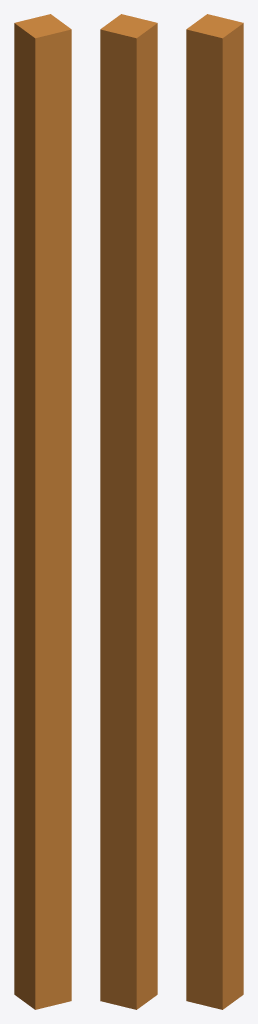
The picture shows the model from 3 angles, left to right: view 1: azimuth 30°, elevation 25°; view 2: azimuth 150°, elevation 25°; view 3: azimuth 330°, elevation 25°; orthographic projection.
Visible parts, largest first — view 1: CORNER-B-44-p2; view 2: CORNER-B-44-p2; view 3: CORNER-B-44-p2.
Boxes of the visible parts, x1=… form: CORNER-B-44-p2: x1=14, y1=14, x2=71, y2=1009; CORNER-B-44-p2: x1=100, y1=14, x2=157, y2=1009; CORNER-B-44-p2: x1=186, y1=14, x2=243, y2=1009.
Size of the model in its own units: 0.0903 by 2.29 by 0.0903.
